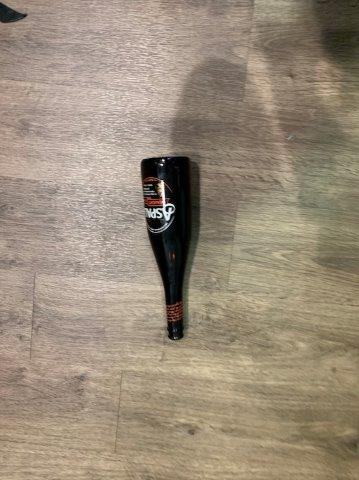botolkaca: (140, 155, 193, 339)
